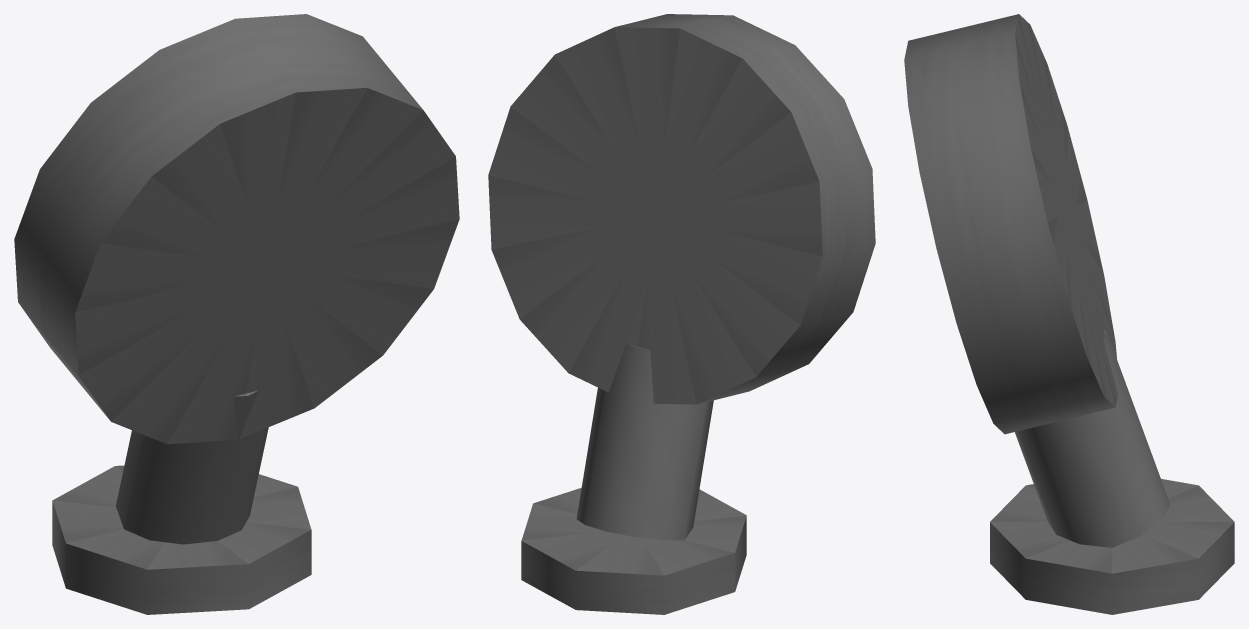
Rendered from mastarmcurve_10x2_c4_down.obj.
3 views of the same model, side by side, from view 1: azimuth 30°, elevation 25°; view 2: azimuth 150°, elevation 25°; view 3: azimuth 270°, elevation 25° (orthographic). The views are drawn at different scales.
Parts seen in each view (by area): view 1: mastarm_10x2_c4_down; view 2: mastarm_10x2_c4_down; view 3: mastarm_10x2_c4_down.
Boxes of the visible parts, x1,y1,x2,y2 form: mastarm_10x2_c4_down: (14, 14, 459, 614); mastarm_10x2_c4_down: (488, 14, 875, 614); mastarm_10x2_c4_down: (904, 14, 1234, 614).
Size of the model in its own units: 0.6625 by 0.9554 by 0.54.
